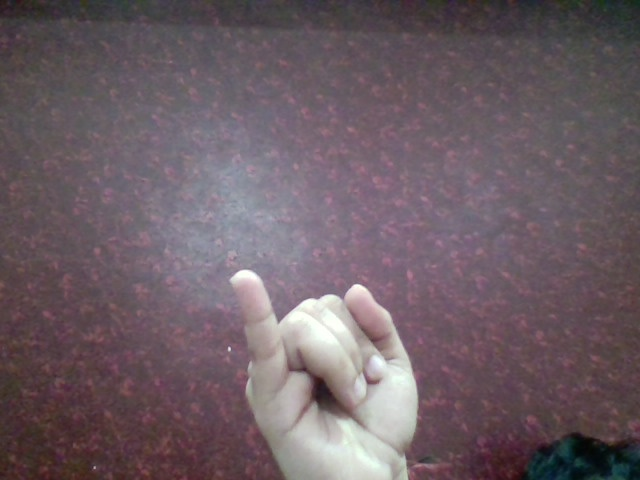j: (209, 255, 443, 466)
